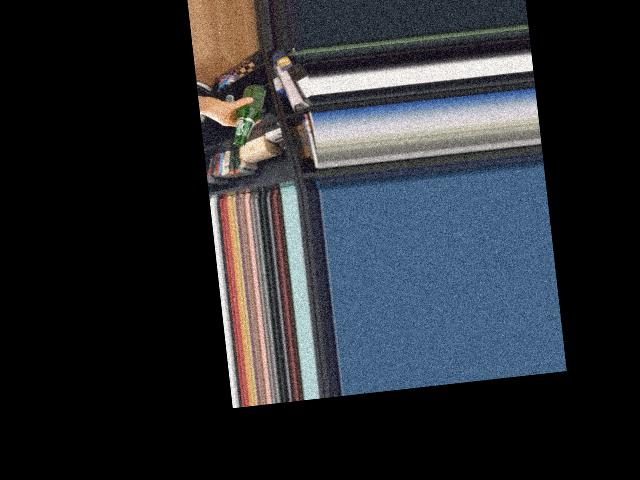beer: (227, 82, 272, 146)
